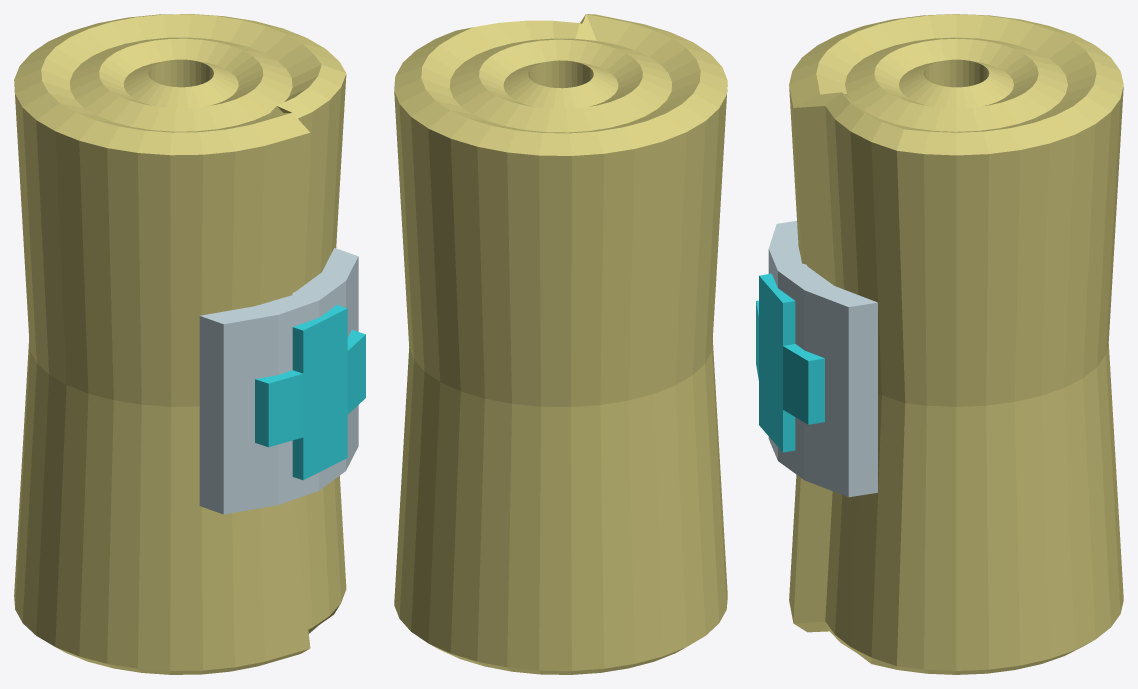
Rendered from HealthPickup.fbx.
3 renders of one model, left to right at view 1: azimuth 30°, elevation 25°; view 2: azimuth 150°, elevation 25°; view 3: azimuth 270°, elevation 25°, orthographic.
Parts seen in each view (by area): view 1: HealthPickup; view 2: HealthPickup; view 3: HealthPickup.
Part boxes in pixels (x1,y1,x2,y2): HealthPickup: [14, 14, 365, 674]; HealthPickup: [394, 14, 727, 674]; HealthPickup: [756, 14, 1123, 674].
Bounding box in the file's own units: 11.76 × 20.81 × 12.92.
